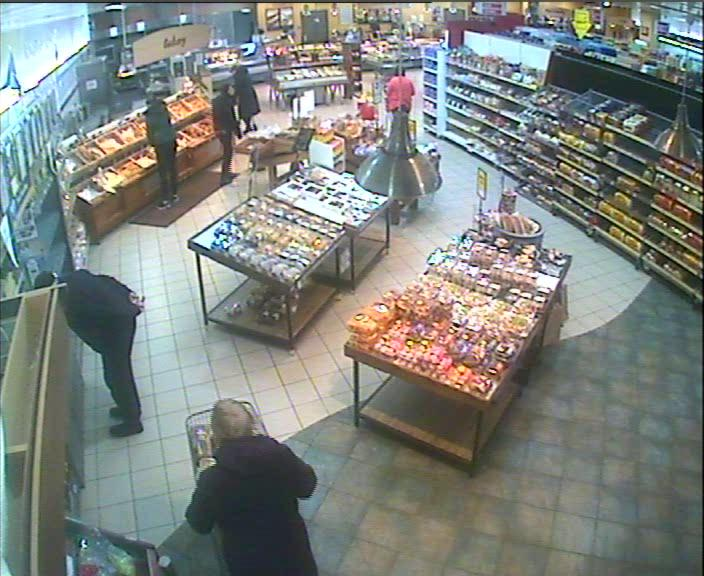filled-basket: (185, 397, 269, 498)
person: (186, 397, 318, 576)
person-with-filled-basket-trolly: (185, 396, 318, 576)
